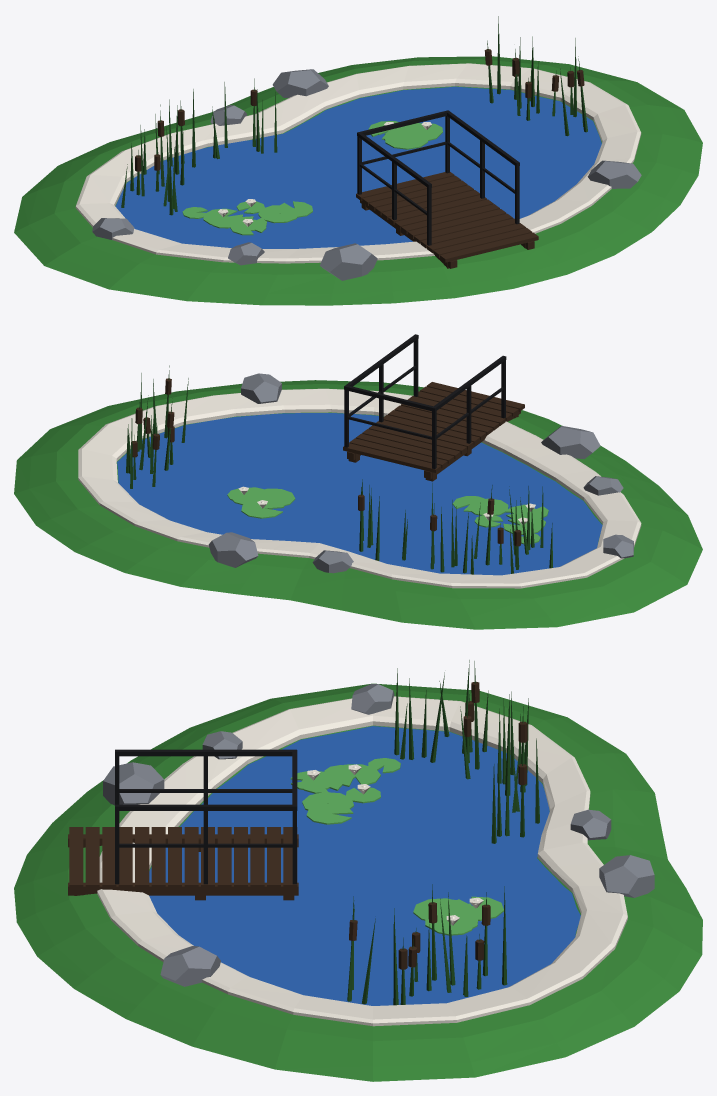
File: danau.glb
3 renders of one model, top to bottom at view 1: azimuth 30°, elevation 25°; view 2: azimuth 150°, elevation 25°; view 3: azimuth 270°, elevation 25°, orthographic. The views are drawn at different scales.
Visible parts, largest first — view 1: bank, water, coping, deck, rocks, reeds, rail, lilypads, cattails; view 2: water, bank, coping, deck, rocks, reeds, rail, lilypads, cattails; view 3: water, bank, coping, deck, reeds, rocks, rail, lilypads, cattails.
Part boxes in pixels (x1,y1,x2,y2): bank: (14, 56, 702, 305); water: (115, 86, 601, 248); coping: (75, 63, 641, 263); deck: (356, 172, 538, 268); rocks: (92, 69, 641, 280); reeds: (121, 16, 587, 215); rail: (357, 110, 519, 245); lilypads: (182, 121, 442, 235); cattails: (135, 49, 584, 171); water: (117, 413, 602, 575); bank: (14, 380, 702, 629); coping: (78, 388, 641, 588); deck: (343, 382, 524, 481); rocks: (208, 373, 633, 573); reeds: (126, 365, 552, 574); rail: (344, 334, 506, 468); lilypads: (227, 487, 548, 544); cattails: (131, 378, 521, 546); water: (149, 726, 580, 1005); bank: (14, 683, 702, 1081); coping: (97, 696, 627, 1026); deck: (68, 827, 298, 900); reeds: (347, 660, 539, 1005); rocks: (103, 684, 654, 986); rail: (115, 749, 297, 884); lilypads: (290, 758, 503, 935); cattails: (349, 681, 527, 969).
Size of the model in its own units: 9.6 by 1.37 by 7.02.
